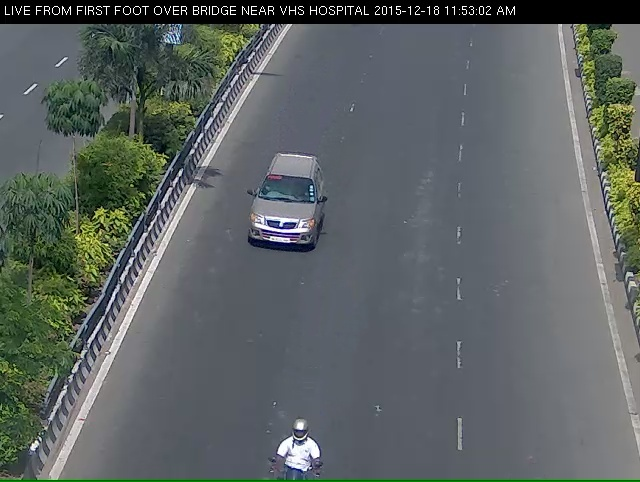Car: (243, 159, 325, 276)
